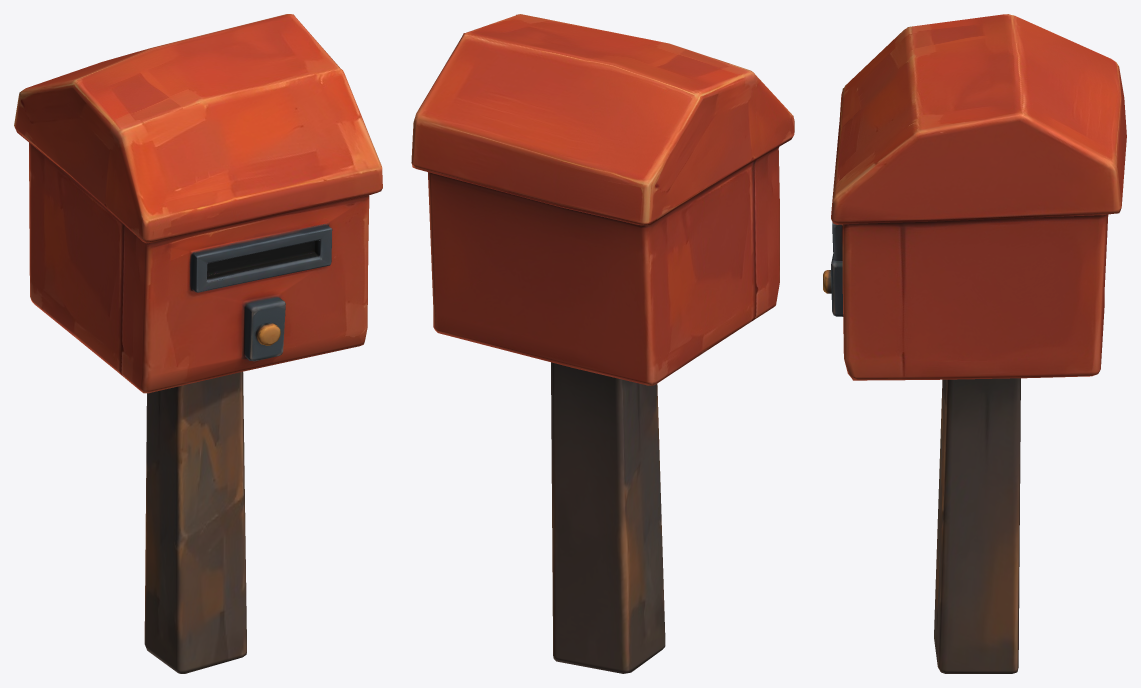
The model's file is mailbox-red.glb.
The picture shows the model from 3 angles, left to right: view 1: azimuth 30°, elevation 25°; view 2: azimuth 150°, elevation 25°; view 3: azimuth 270°, elevation 25°; orthographic projection. The views are drawn at different scales.
Parts seen in each view (by area): view 1: tripo_node_f17dd4c1-4369-402c-9622-2a0ba49c90c4; view 2: tripo_node_f17dd4c1-4369-402c-9622-2a0ba49c90c4; view 3: tripo_node_f17dd4c1-4369-402c-9622-2a0ba49c90c4.
Part boxes in pixels (bbox=[...]): tripo_node_f17dd4c1-4369-402c-9622-2a0ba49c90c4: bbox=[14, 14, 382, 673]; tripo_node_f17dd4c1-4369-402c-9622-2a0ba49c90c4: bbox=[411, 14, 794, 673]; tripo_node_f17dd4c1-4369-402c-9622-2a0ba49c90c4: bbox=[823, 14, 1126, 673].
Size of the model in its own units: 0.4671 by 1.1 by 0.5016.
Materials: 1 (1 with a texture image).
